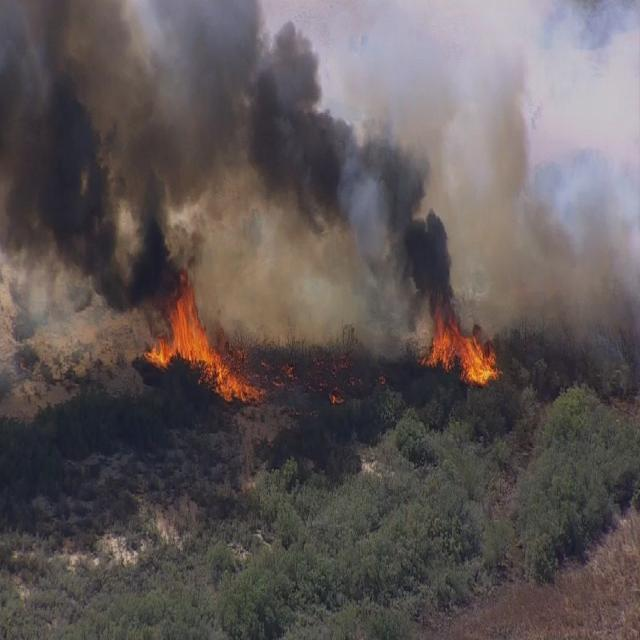Fire: (171, 280, 260, 408), (426, 314, 496, 386), (140, 317, 182, 368)
Smoke: (15, 7, 308, 188), (307, 56, 453, 264), (0, 149, 135, 302)
